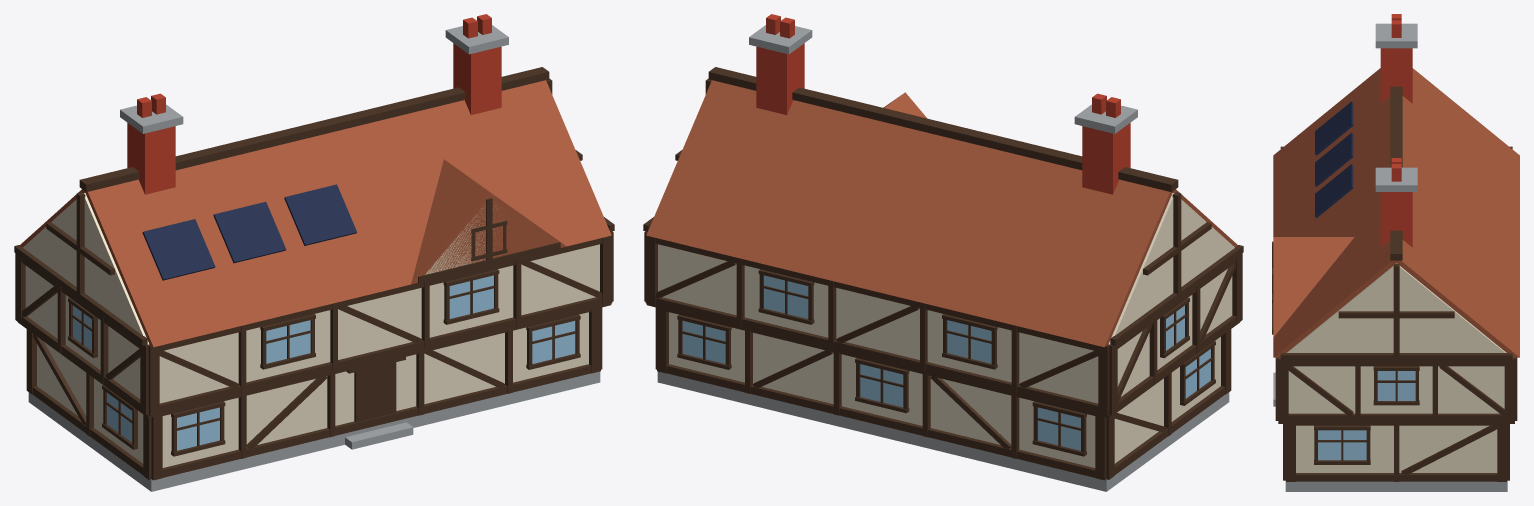
File: house-2x1-2f-tudor-a-solar.glb
The picture shows the model from 3 angles, left to right: view 1: azimuth 30°, elevation 25°; view 2: azimuth 150°, elevation 25°; view 3: azimuth 270°, elevation 25°; orthographic projection. The views are drawn at different scales.
Visible parts, largest first — view 1: house-2x1-2f-tudor-a-solar; view 2: house-2x1-2f-tudor-a-solar; view 3: house-2x1-2f-tudor-a-solar.
Boxes of the visible parts, x1=… form: house-2x1-2f-tudor-a-solar: x1=14, y1=14, x2=614, y2=491; house-2x1-2f-tudor-a-solar: x1=643, y1=14, x2=1243, y2=491; house-2x1-2f-tudor-a-solar: x1=1272, y1=14, x2=1519, y2=491.
Size of the model in its own units: 2 by 1.35 by 1.
Materials: 1 (1 with a texture image).
